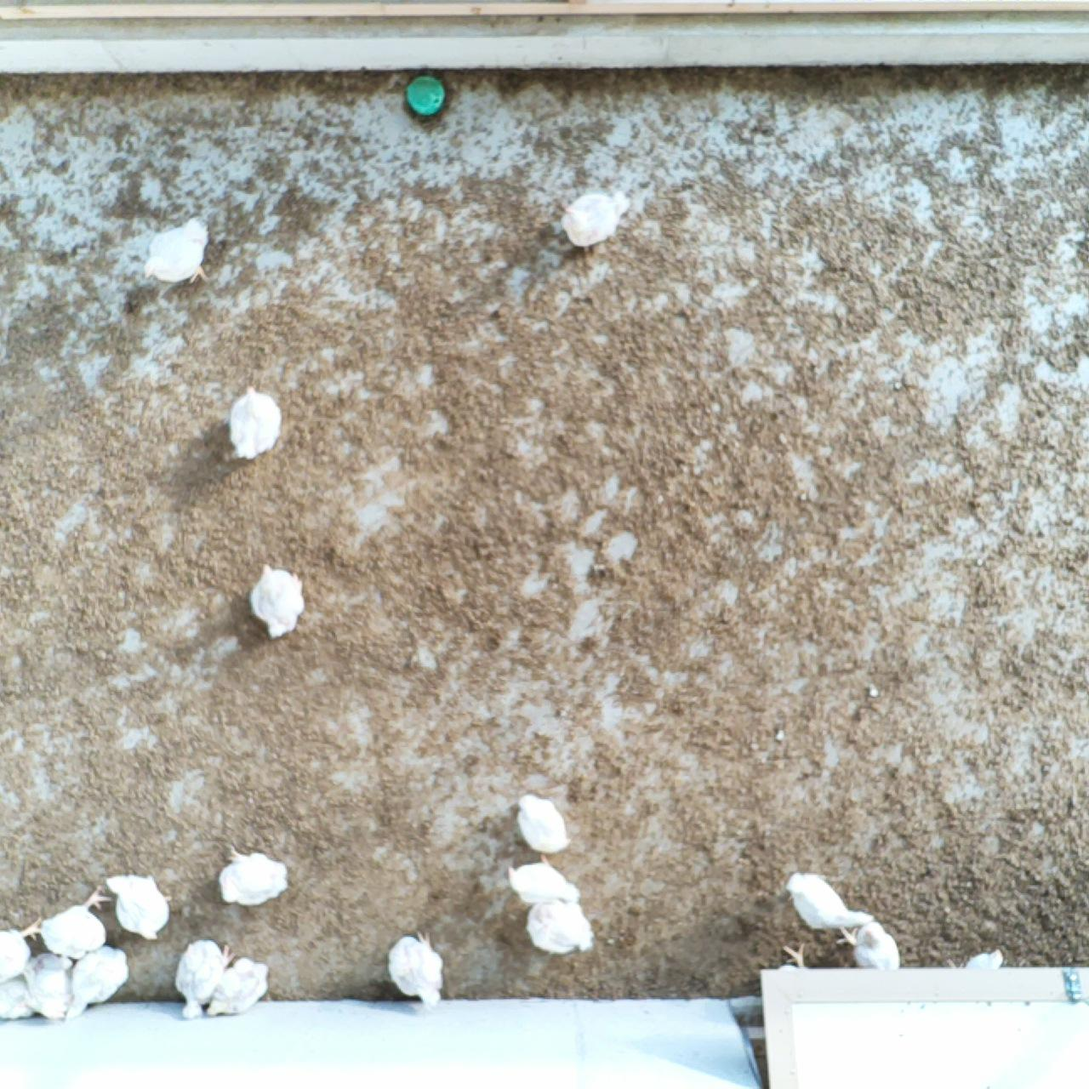chicken: (134, 205, 212, 291), (784, 867, 877, 933), (98, 867, 175, 942), (383, 926, 447, 1012), (36, 889, 111, 961), (173, 935, 234, 1021), (520, 891, 597, 958), (214, 838, 290, 904), (561, 183, 634, 251), (247, 560, 311, 637), (16, 944, 78, 1023), (203, 950, 269, 1023), (505, 854, 584, 913), (229, 376, 282, 462), (831, 908, 902, 971), (67, 942, 130, 1012), (767, 941, 826, 1008), (513, 788, 572, 853), (946, 942, 1015, 992), (0, 915, 50, 983), (0, 966, 35, 1028)
